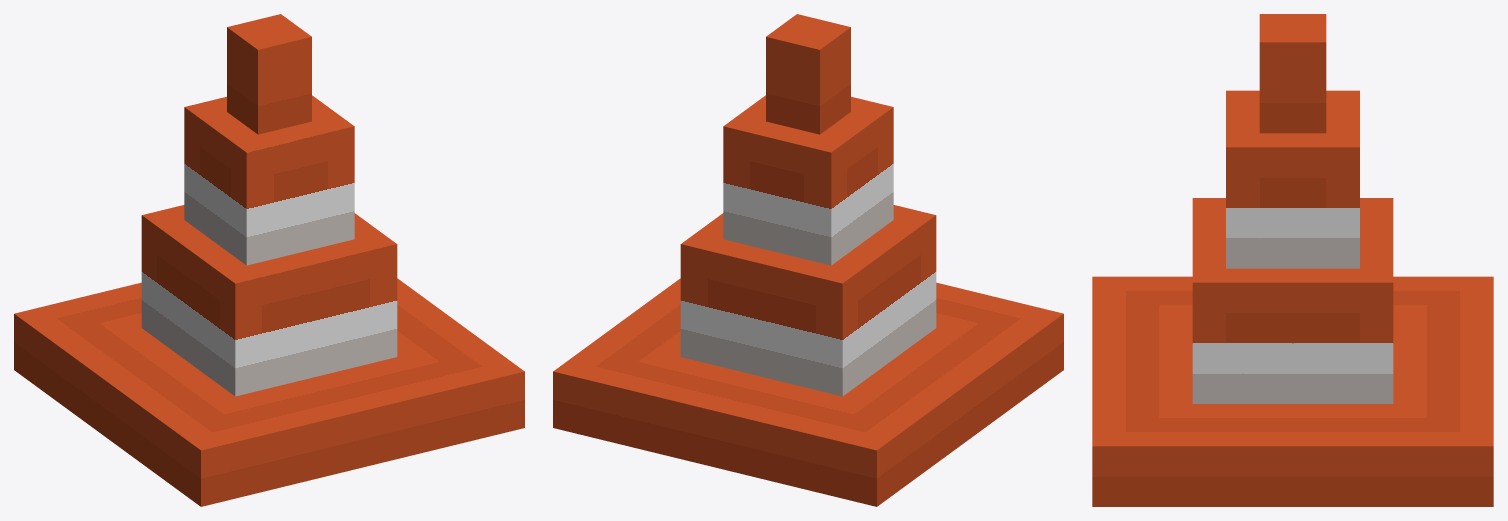
Rendered from traffic_cone.glb.
3 renders of one model, left to right at view 1: azimuth 30°, elevation 25°; view 2: azimuth 150°, elevation 25°; view 3: azimuth 270°, elevation 25°, orthographic. The views are drawn at different scales.
Parts seen in each view (by area): view 1: traffic_cone_part_0, traffic_cone_part_1, traffic_cone_part_2, traffic_cone_part_3; view 2: traffic_cone_part_0, traffic_cone_part_1, traffic_cone_part_2, traffic_cone_part_3; view 3: traffic_cone_part_0, traffic_cone_part_1, traffic_cone_part_2, traffic_cone_part_3.
Boxes of the visible parts, box(x1,y1,x2,y2) form: traffic_cone_part_0: box(14, 278, 524, 506); traffic_cone_part_1: box(141, 205, 397, 396); traffic_cone_part_2: box(184, 95, 354, 265); traffic_cone_part_3: box(227, 14, 311, 134); traffic_cone_part_0: box(553, 278, 1063, 506); traffic_cone_part_1: box(680, 205, 936, 396); traffic_cone_part_2: box(723, 95, 893, 265); traffic_cone_part_3: box(766, 14, 850, 134); traffic_cone_part_0: box(1092, 276, 1493, 506); traffic_cone_part_1: box(1192, 198, 1393, 403); traffic_cone_part_2: box(1226, 90, 1359, 268); traffic_cone_part_3: box(1259, 14, 1326, 133).
Size of the model in its own units: 0.75 by 0.8125 by 0.75.
1 material, 1 textured.
